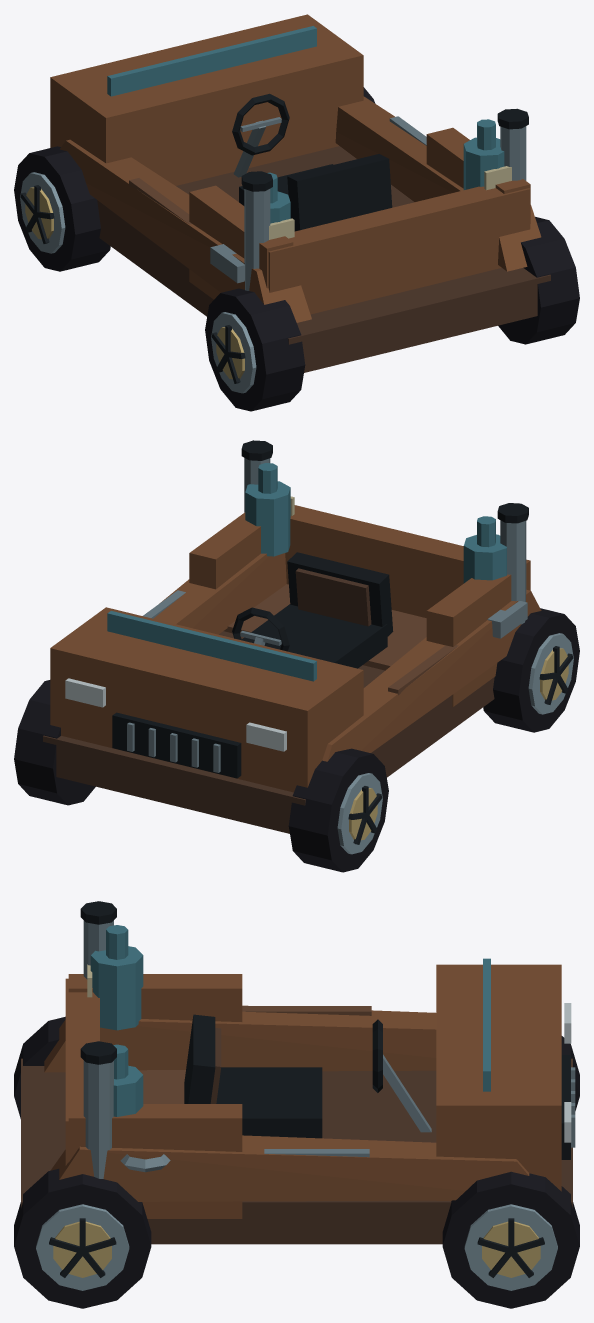
File: kart.glb
3 views of the same model, one above another, from view 1: azimuth 30°, elevation 25°; view 2: azimuth 150°, elevation 25°; view 3: azimuth 270°, elevation 25° (orthographic). The views are drawn at different scales.
Parts seen in each view (by area): view 1: identity-truck-truck-utility-body, wheel-rear-left, wheel-front-left, identity-truck-driver-cockpit, wheel-rear-right, identity-truck-motif-exhaust, identity-truck-motif-bottles, identity-truck-motif-tools; view 2: identity-truck-truck-utility-body, identity-truck-driver-cockpit, wheel-front-left, wheel-rear-left, identity-truck-motif-bottles, wheel-front-right, identity-truck-motif-exhaust, identity-truck-motif-tools; view 3: identity-truck-truck-utility-body, wheel-front-right, wheel-rear-right, identity-truck-driver-cockpit, identity-truck-motif-bottles, identity-truck-motif-exhaust, identity-truck-motif-tools, wheel-rear-left.
Boxes of the visible parts, <box> form: identity-truck-truck-utility-body: <box>50,14,550,372</box>; wheel-rear-left: <box>205,288,305,411</box>; wheel-front-left: <box>14,146,110,271</box>; identity-truck-driver-cockpit: <box>232,93,392,231</box>; wheel-rear-right: <box>498,216,579,344</box>; identity-truck-motif-exhaust: <box>241,108,528,290</box>; identity-truck-motif-bottles: <box>267,119,511,239</box>; identity-truck-motif-tools: <box>129,116,426,283</box>; identity-truck-truck-utility-body: <box>43,505,541,833</box>; identity-truck-driver-cockpit: <box>232,552,393,668</box>; wheel-front-left: <box>288,748,388,872</box>; wheel-rear-left: <box>483,608,579,732</box>; identity-truck-motif-bottles: <box>245,463,506,583</box>; wheel-front-right: <box>14,680,95,805</box>; identity-truck-motif-exhaust: <box>241,440,528,624</box>; identity-truck-motif-tools: <box>143,590,527,695</box>; identity-truck-truck-utility-body: <box>21,958,575,1244</box>; wheel-front-right: <box>442,1171,579,1308</box>; wheel-rear-right: <box>14,1168,151,1308</box>; identity-truck-driver-cockpit: <box>184,1014,431,1138</box>; identity-truck-motif-bottles: <box>87,925,143,1116</box>; identity-truck-motif-exhaust: <box>80,901,116,1178</box>; identity-truck-motif-tools: <box>120,1006,371,1172</box>; wheel-rear-left: <box>14,1016,65,1118</box>.
Size of the model in its own units: 2.13 by 1.33 by 2.8.
